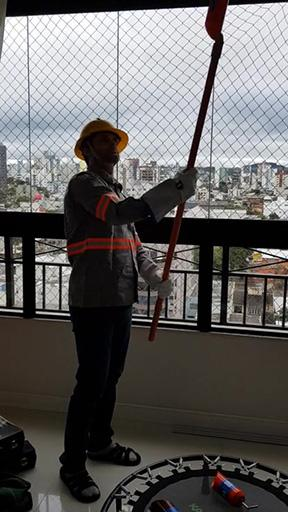Vara_Manobra: (150, 39, 225, 342)
